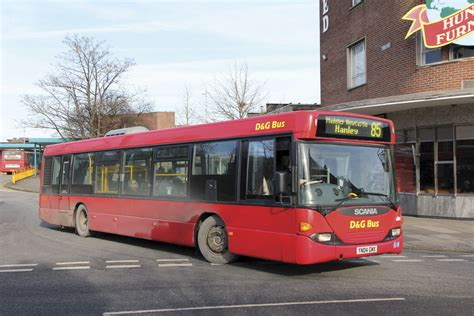bus: (45, 118, 402, 266), (1, 147, 36, 172)
